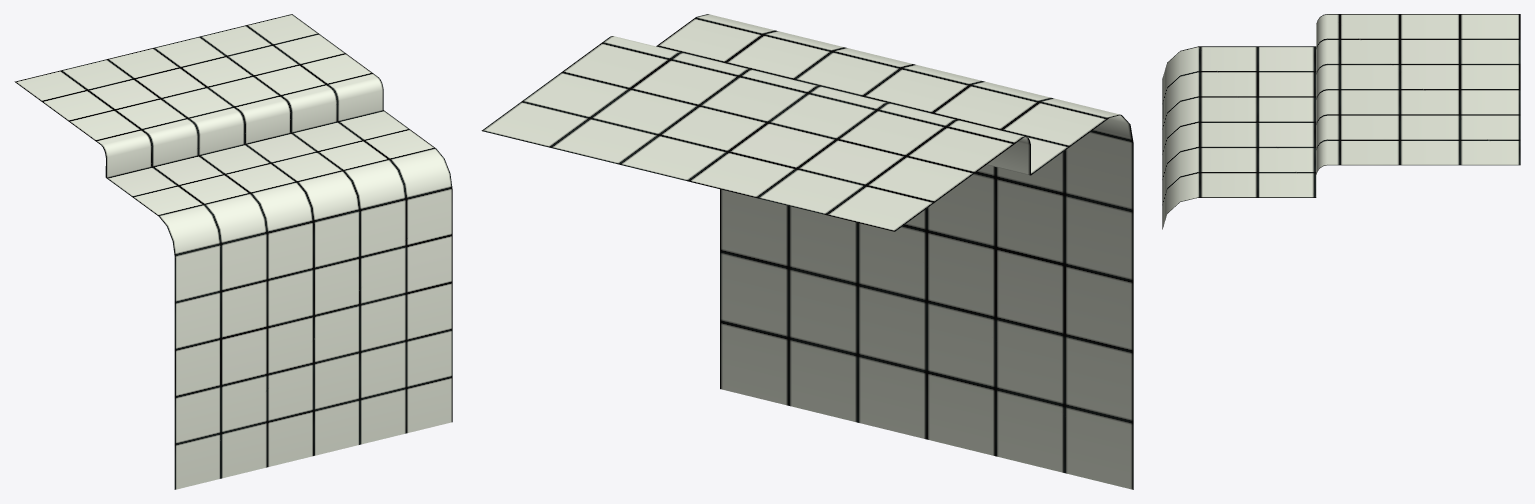
Rendered from Pool_edge02.fbx.
The picture shows the model from 3 angles, left to right: view 1: azimuth 30°, elevation 25°; view 2: azimuth 150°, elevation 25°; view 3: azimuth 270°, elevation 25°; orthographic projection. The views are drawn at different scales.
Visible parts, largest first — view 1: Pool_edge02; view 2: Pool_edge02; view 3: Pool_edge02.
Part boxes in pixels (box(x1,y1,x2,y2)): Pool_edge02: box(14, 14, 452, 489); Pool_edge02: box(481, 14, 1133, 489); Pool_edge02: box(1162, 14, 1520, 229).
Size of the model in its own units: 100 by 100 by 100.
